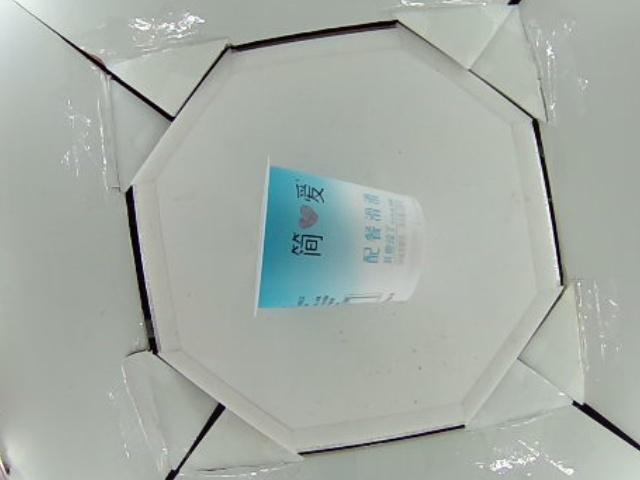Cup: (249, 159, 422, 313)
